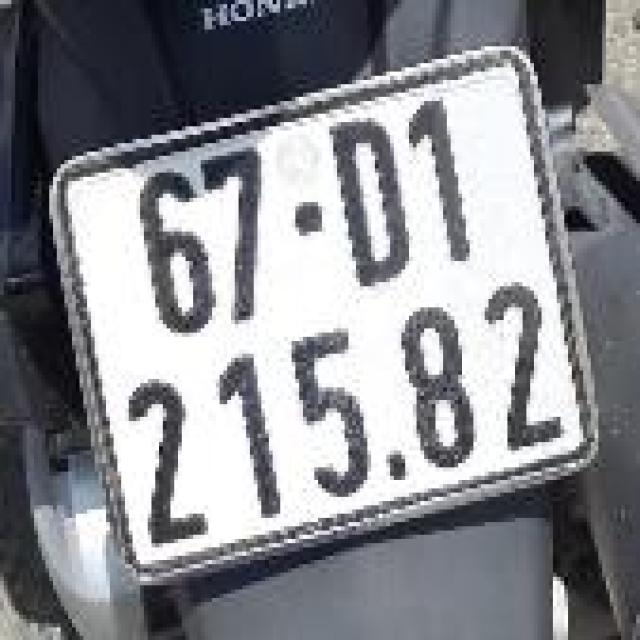1: (396, 91, 485, 281), (203, 341, 289, 529)
2: (110, 363, 217, 555), (469, 267, 575, 460)
5: (280, 317, 380, 511)
6: (116, 155, 230, 348)
7: (193, 139, 297, 332)
8: (384, 296, 486, 478)
D: (319, 103, 424, 303)
